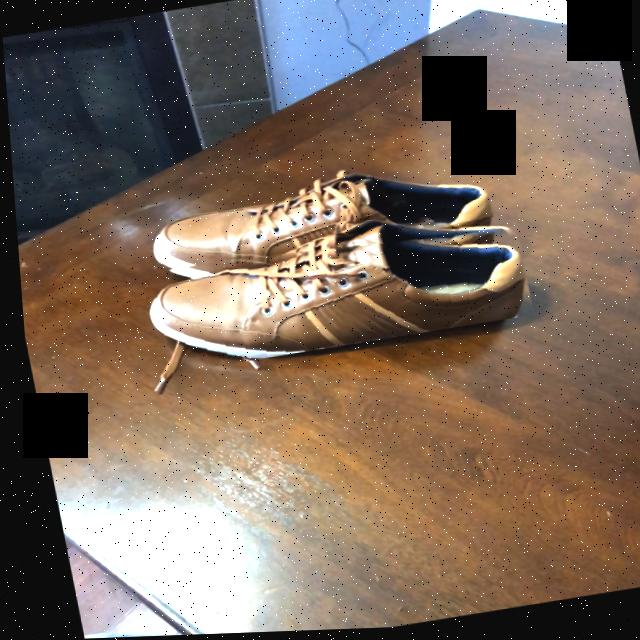shoe: (145, 241, 525, 363), (154, 173, 490, 268)
